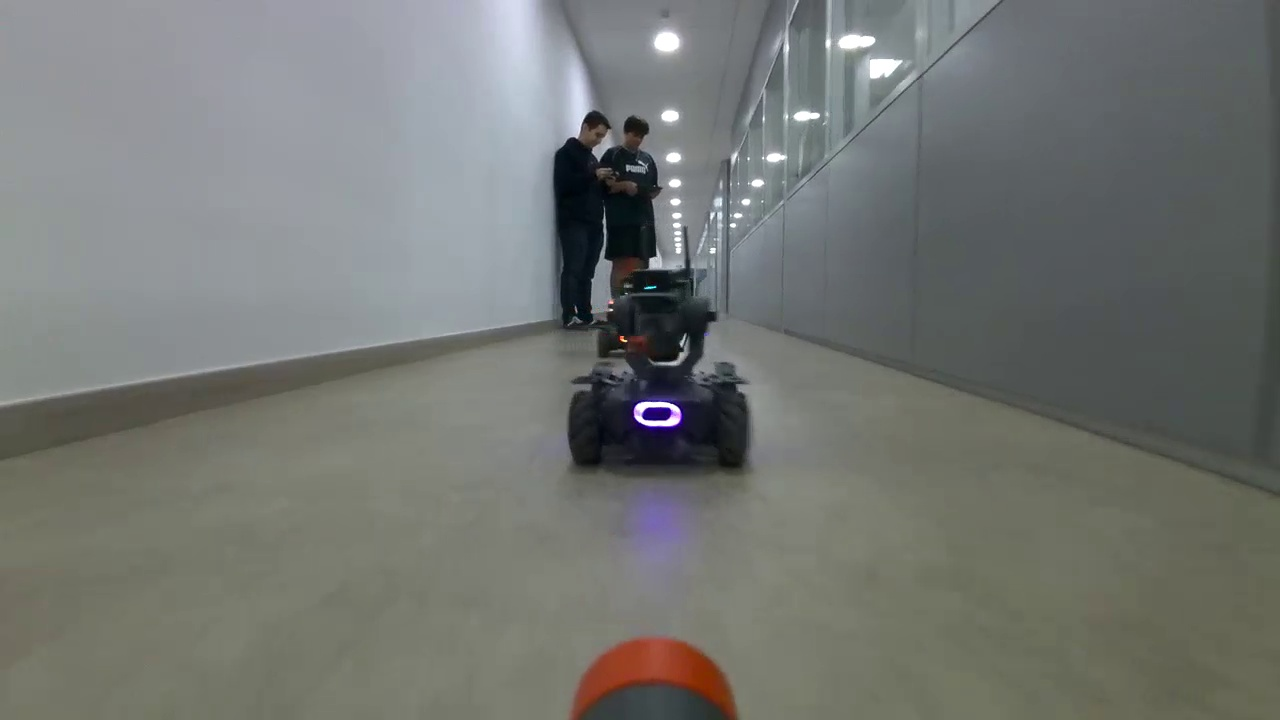robot: (566, 271, 751, 474)
